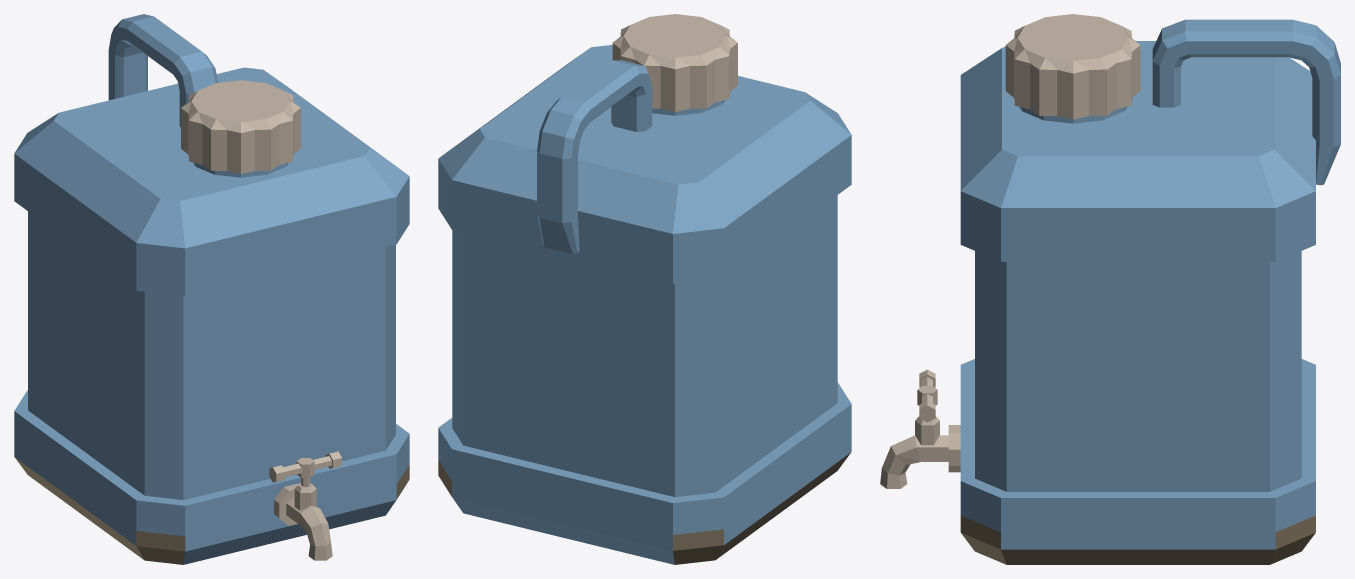
Rendered from camp-water-jug-1aba54.glb.
The picture shows the model from 3 angles, left to right: view 1: azimuth 30°, elevation 25°; view 2: azimuth 150°, elevation 25°; view 3: azimuth 270°, elevation 25°; orthographic projection. The views are drawn at different scales.
Visible parts, largest first — view 1: jug-body, cap-shell, tap-lever-bar; view 2: jug-body, cap-shell; view 3: jug-body, cap-shell, tap-lever-bar.
Boxes of the visible parts, x1,y1,x2,y2 form: jug-body: (14, 14, 409, 564); cap-shell: (181, 80, 300, 173); tap-lever-bar: (269, 451, 341, 486); jug-body: (438, 45, 851, 564); cap-shell: (612, 14, 737, 111); jug-body: (880, 19, 1340, 564); cap-shell: (1005, 14, 1140, 119); tap-lever-bar: (917, 369, 937, 422).
Size of the model in its own units: 0.3 by 0.438 by 0.389.
